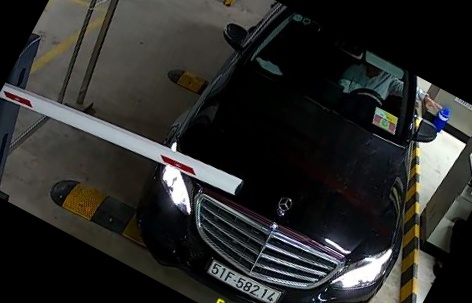plate: (206, 256, 287, 301)
